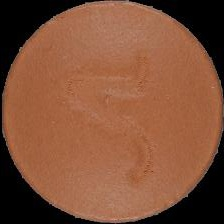49999-228: (0, 0, 224, 224)
